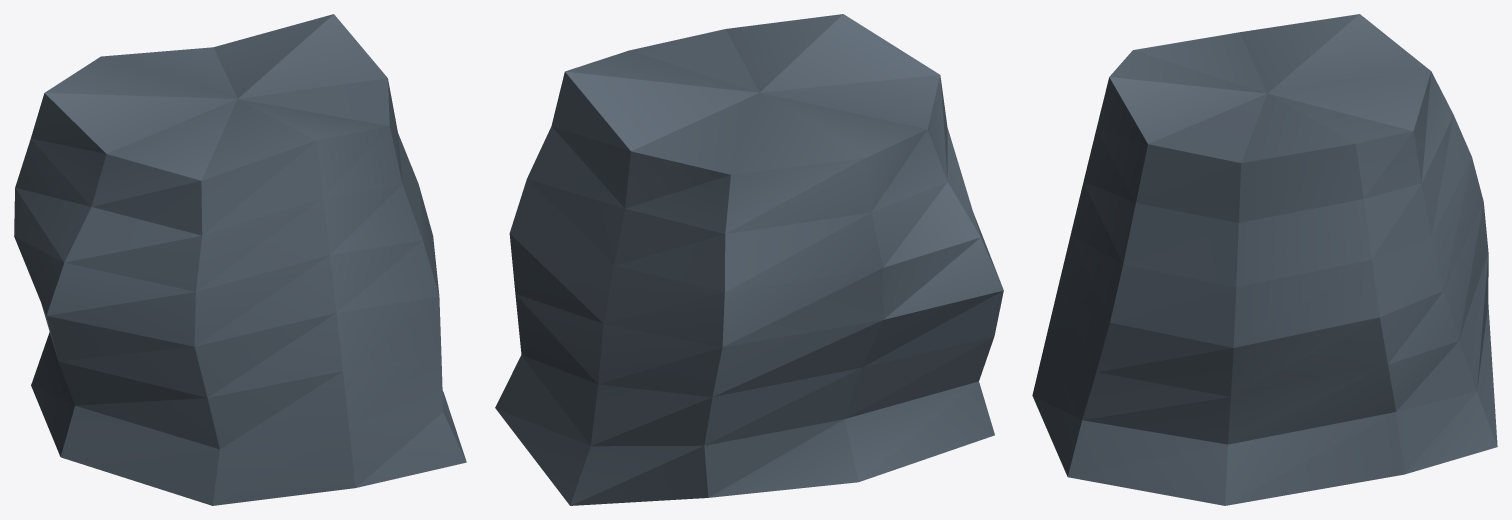
File: iron-boulder.glb
The picture shows the model from 3 angles, left to right: view 1: azimuth 30°, elevation 25°; view 2: azimuth 150°, elevation 25°; view 3: azimuth 270°, elevation 25°; orthographic projection. The views are drawn at different scales.
Bounding box in the file's own units: 2.71 × 2.24 × 2.77.
